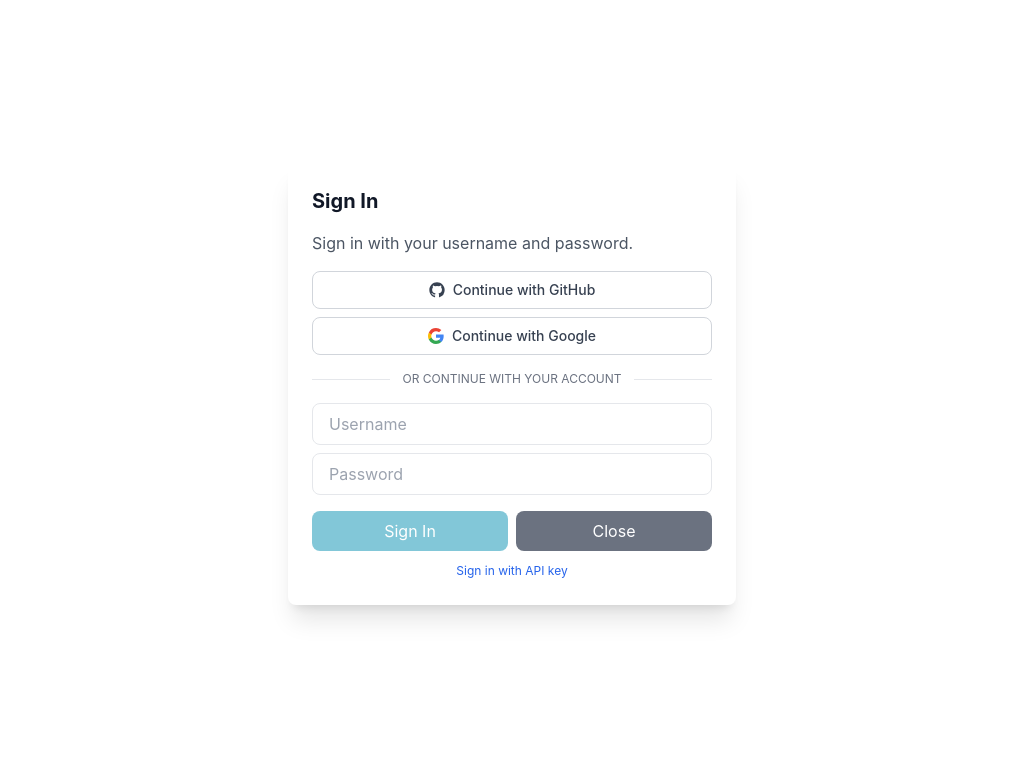
Scenario: LoginScreen › surfaces the store error when credentials are rejected
Type "admin" into the field with test id "login-username". click: (512, 424)
box: [312,403,712,445]
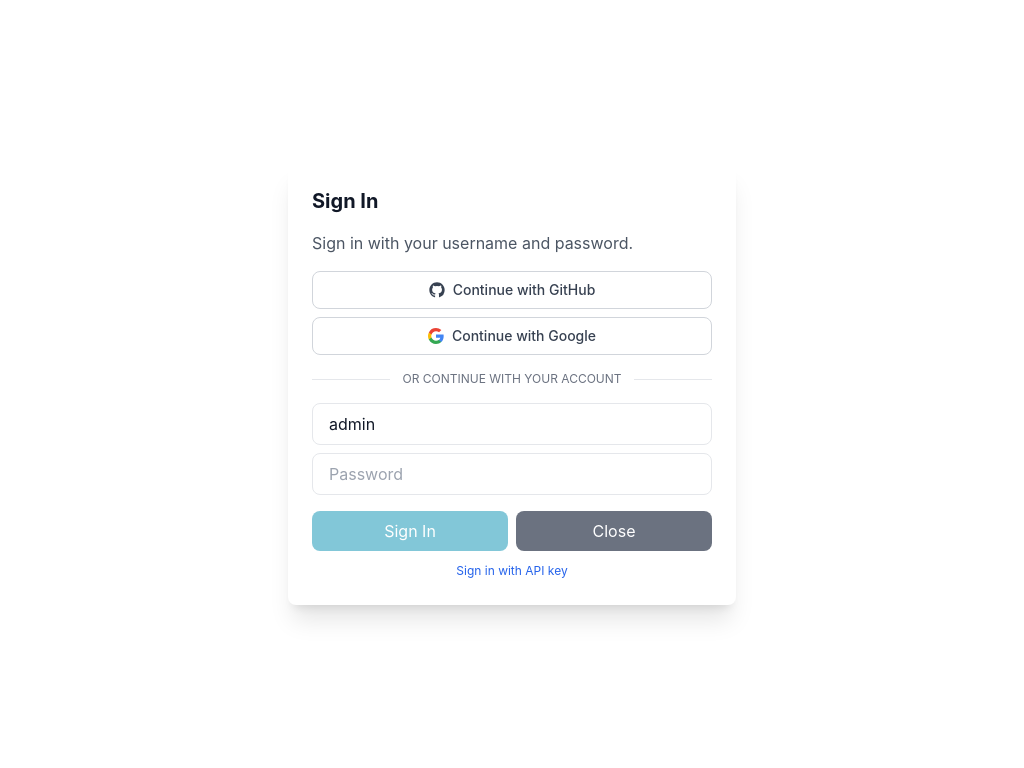
Type "wrong" into the password field with test id "login-password". click: (512, 474)
box: [312,453,712,495]
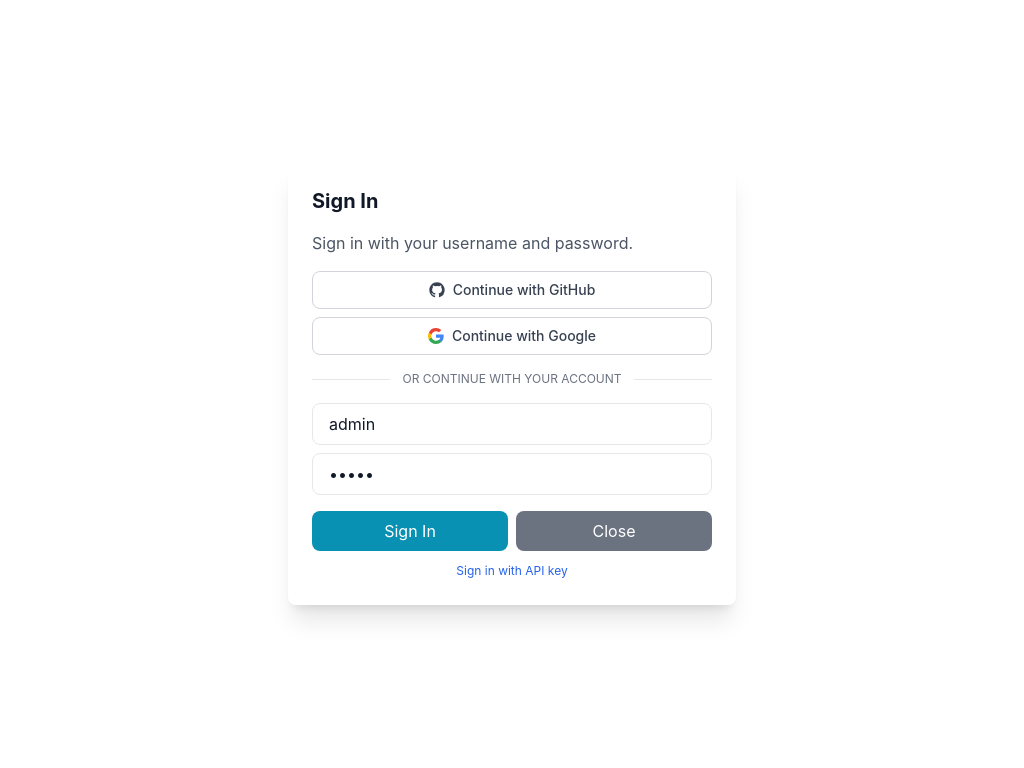
Submit the form, box [312,403,712,581]
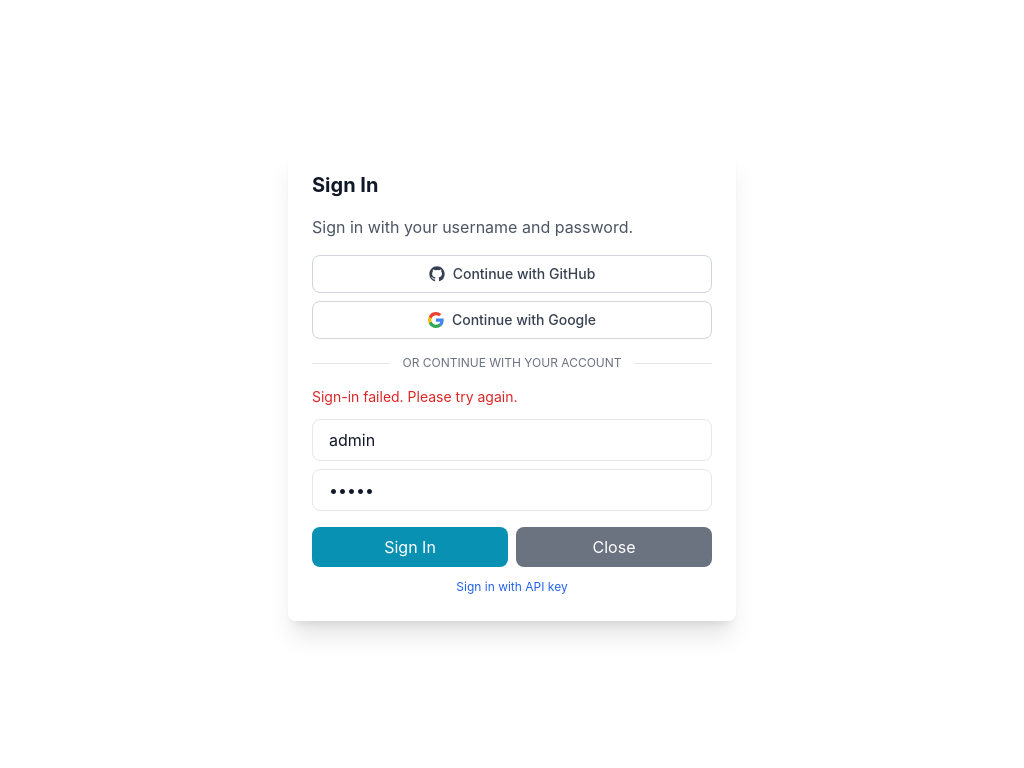
Result: the message "Sign-in failed. Please try again." is shown at [312,388,518,405]
